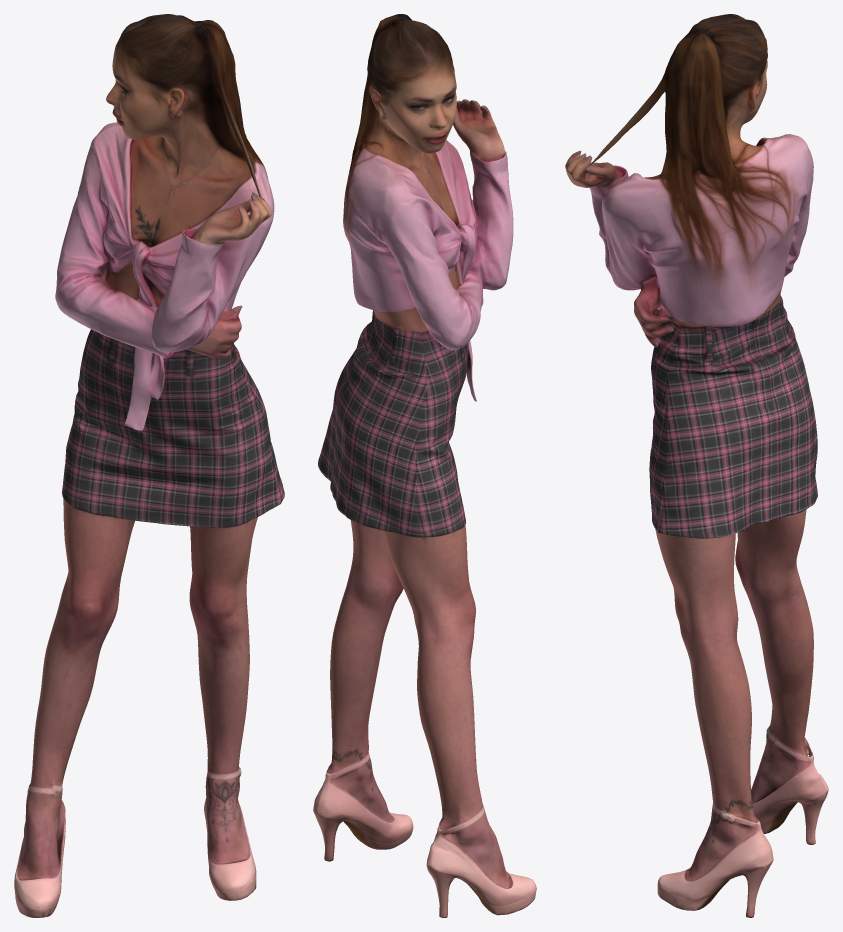
3 renders of one model, left to right at view 1: azimuth 30°, elevation 25°; view 2: azimuth 150°, elevation 25°; view 3: azimuth 270°, elevation 25°, orthographic. The views are drawn at different scales.
Parts seen in each view (by area): view 1: Object_4; view 2: Object_4; view 3: Object_4.
Boxes of the visible parts, <box> form: Object_4: <box>14,14,284,917</box>; Object_4: <box>313,14,536,917</box>; Object_4: <box>565,14,828,917</box>.
Bounding box in the file's own units: 0.498 × 1.77 × 0.4888.
1 material, 1 textured.
